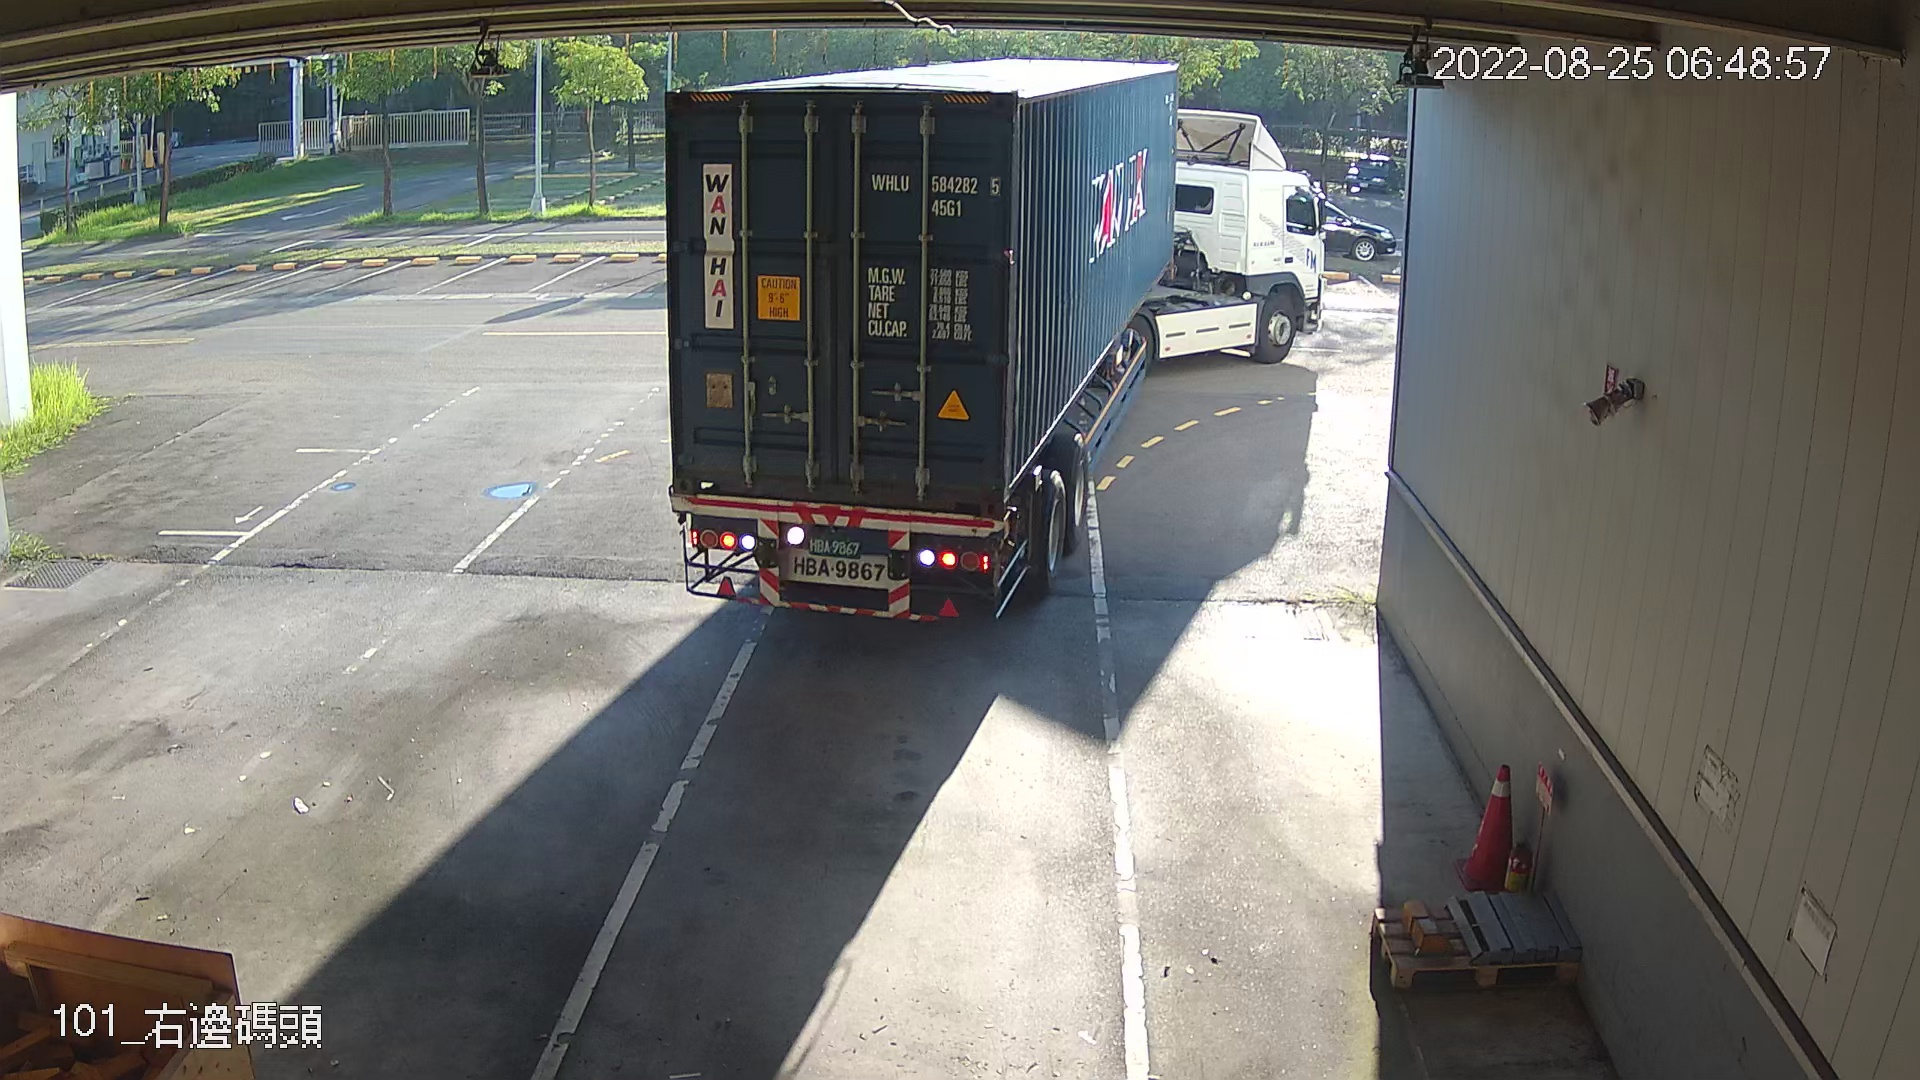container: (864, 166, 1007, 224)
